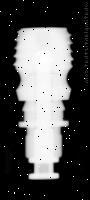Cowellmedi: (14, 27, 73, 180)
